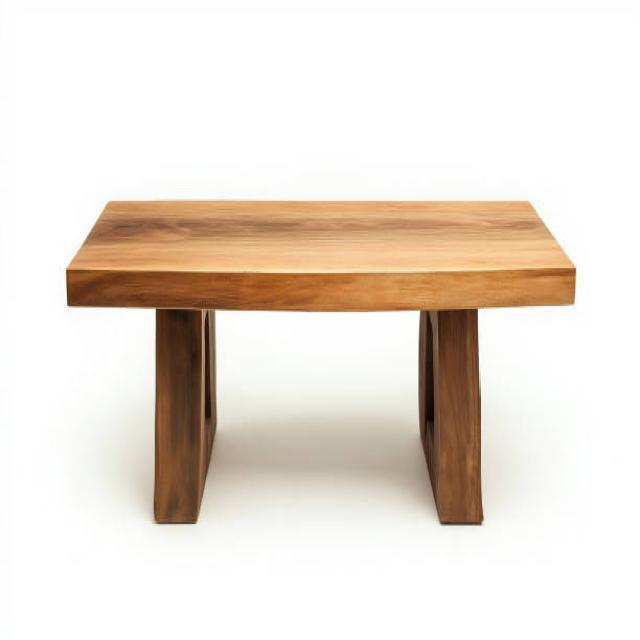table: (64, 196, 576, 526)
